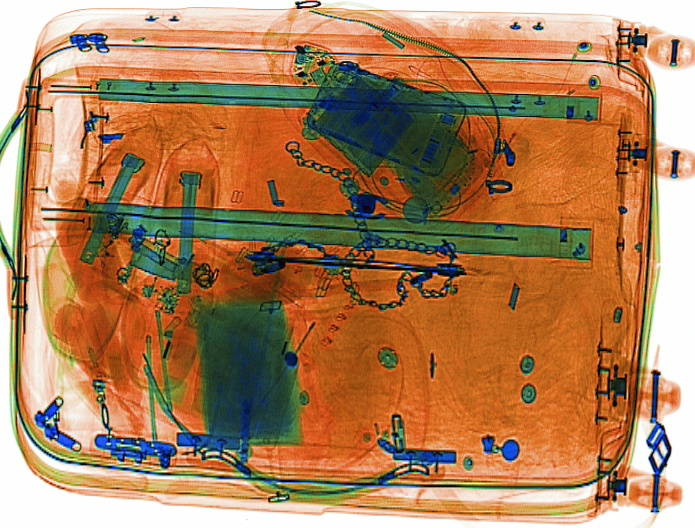powerbank: (307, 72, 415, 184)
